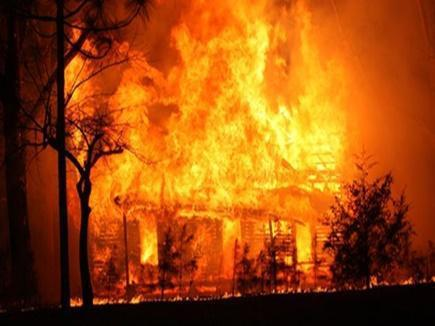fire: (63, 0, 366, 292)
